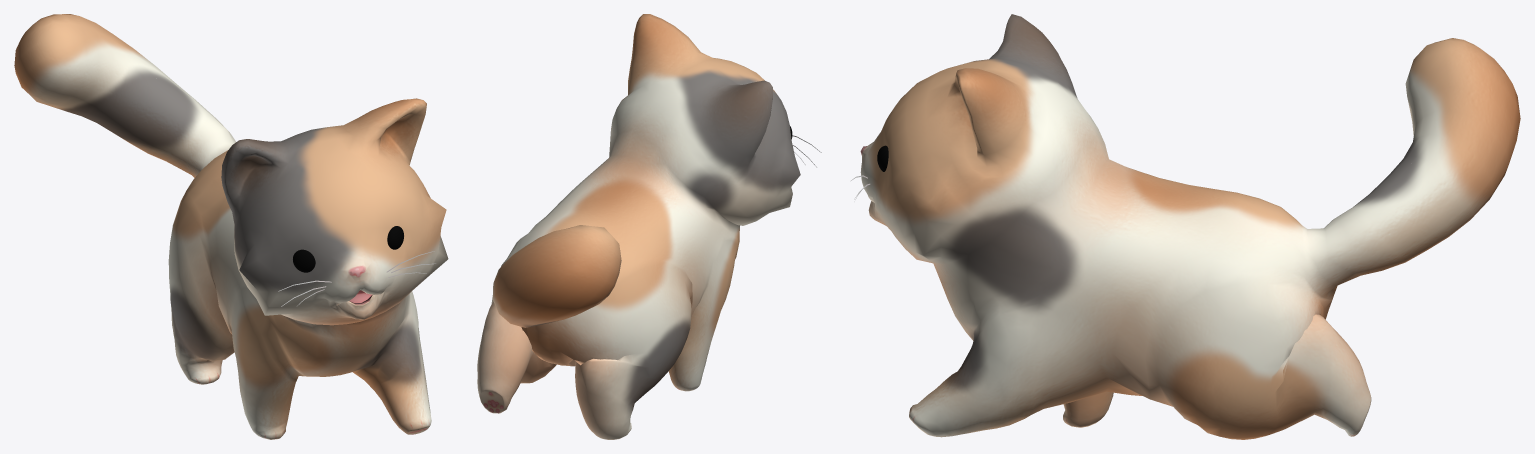
File: calico.fbx
3 views of the same model, side by side, from view 1: azimuth 30°, elevation 25°; view 2: azimuth 150°, elevation 25°; view 3: azimuth 270°, elevation 25° (orthographic). The views are drawn at different scales.
Visible parts, largest first — view 1: fat_cat_white1, Sphere; view 2: fat_cat_white1; view 3: fat_cat_white1.
Boxes of the visible parts, bbox=[...] form: fat_cat_white1: bbox=[14, 14, 448, 439]; Sphere: bbox=[293, 249, 315, 272]; fat_cat_white1: bbox=[477, 14, 800, 439]; fat_cat_white1: bbox=[860, 14, 1520, 439].
Size of the model in its own units: 92.18 by 139 by 211.
